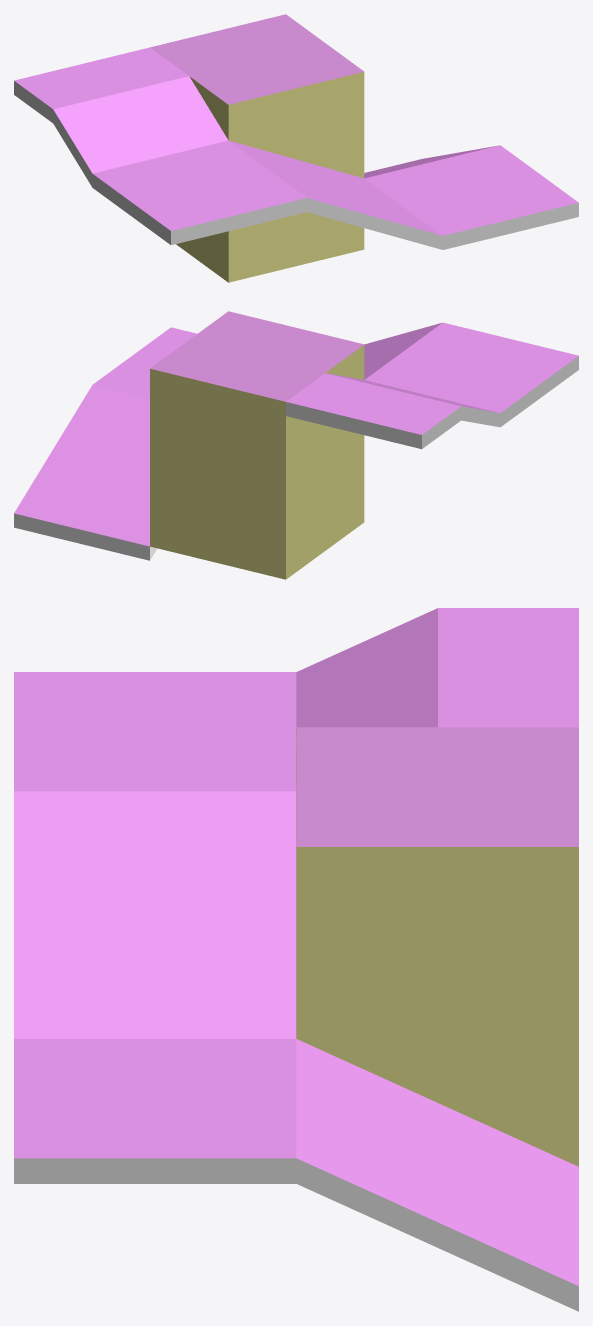
File: RollWall.fbx
3 renders of one model, top to bottom at view 1: azimuth 30°, elevation 25°; view 2: azimuth 150°, elevation 25°; view 3: azimuth 270°, elevation 25°, orthographic. The views are drawn at different scales.
Parts seen in each view (by area): view 1: RollWall; view 2: RollWall; view 3: RollWall.
Part boxes in pixels (box(x1,y1,x2,y2)): RollWall: box(14, 14, 578, 282); RollWall: box(14, 311, 578, 579); RollWall: box(14, 608, 578, 1311).
Bounding box in the file's own units: 7.5 × 3.38 × 5.
